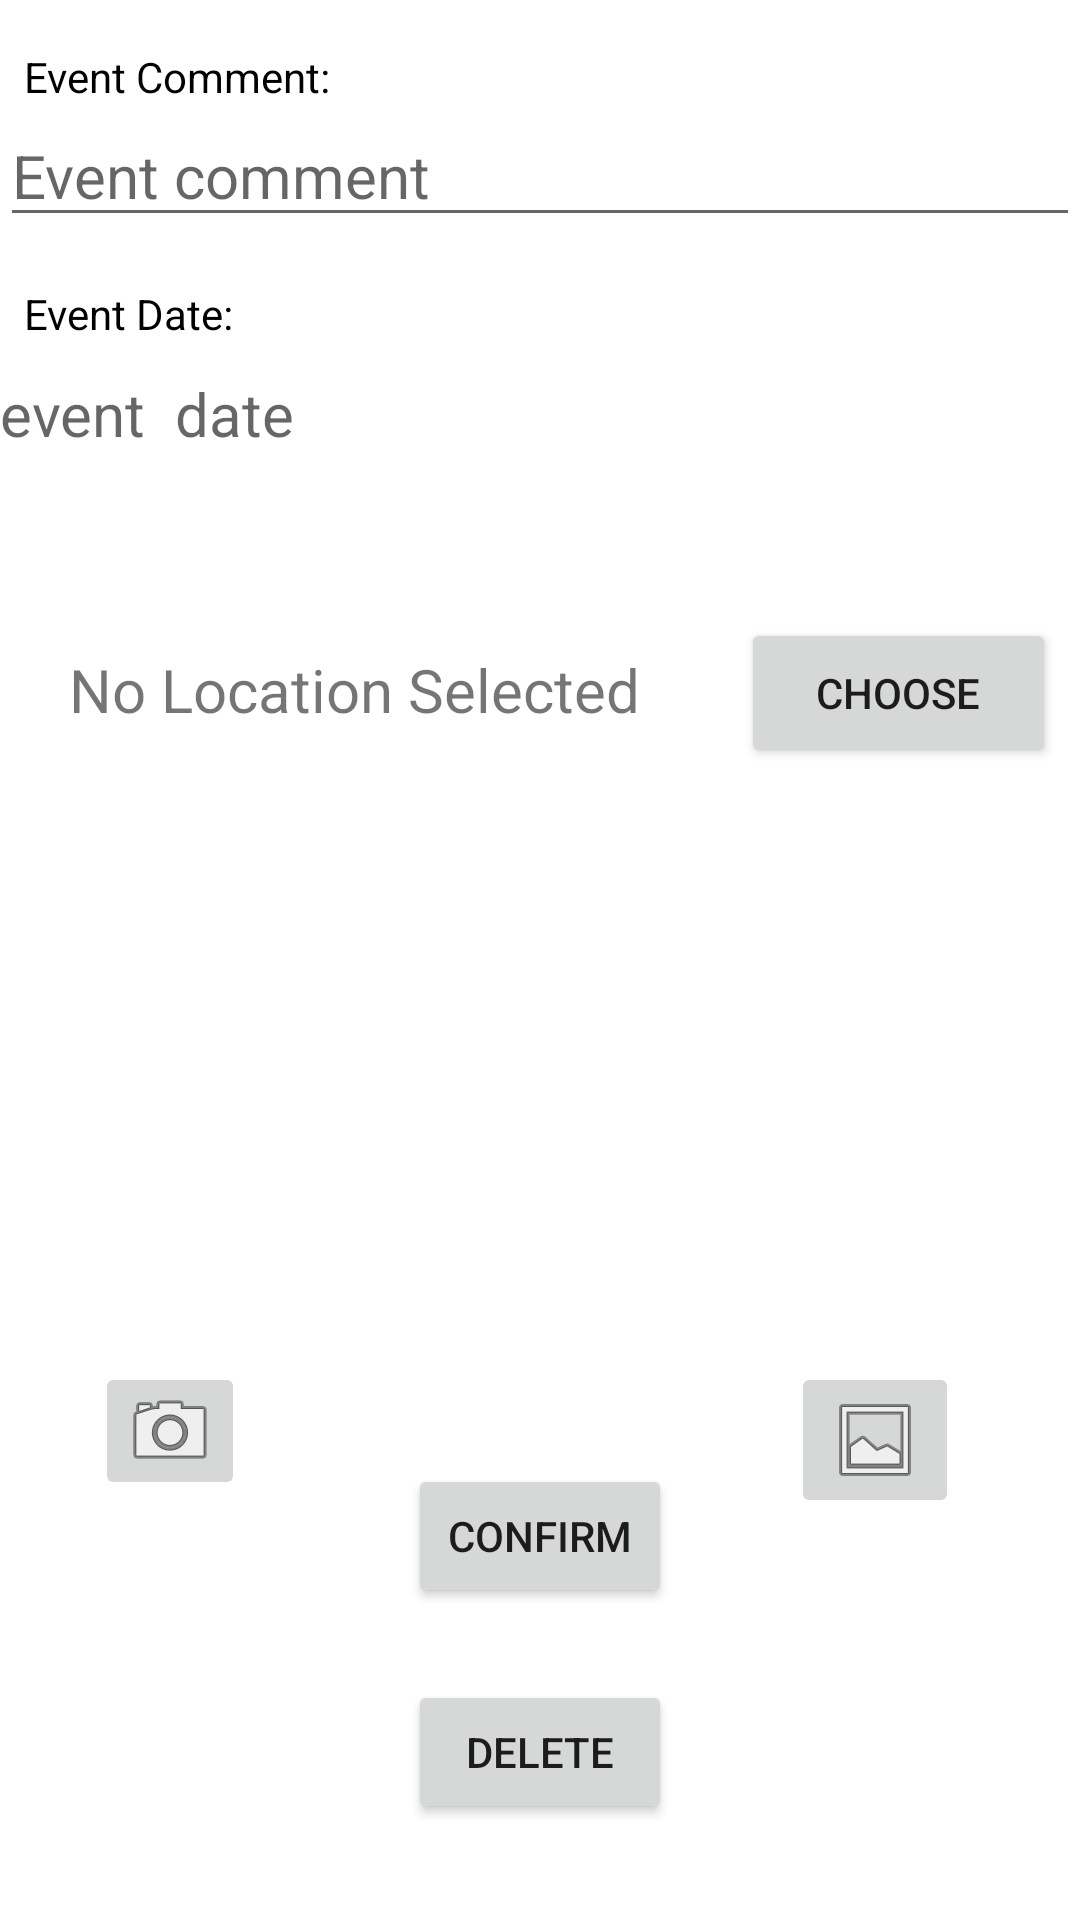

Icon bounding boxes for this 1080×1920 phone screenshot, format (x1=x1, y1=y1, x2=x2, y2=y2):
camera: (x1=107, y1=1380, x2=233, y2=1482)
gallery: (x1=803, y1=1380, x2=947, y2=1500)
